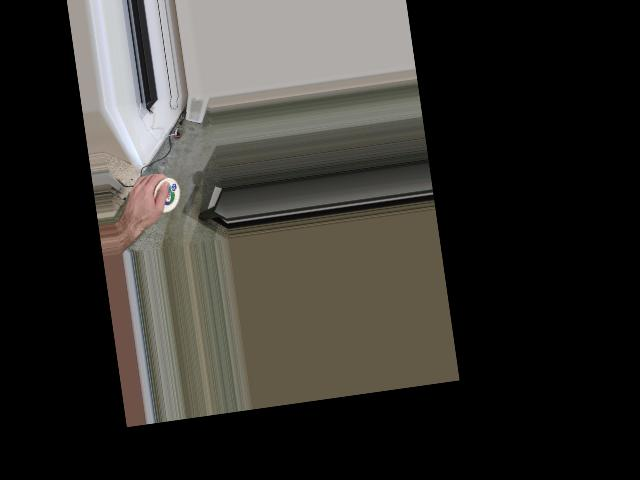cotage: (148, 176, 182, 214)
